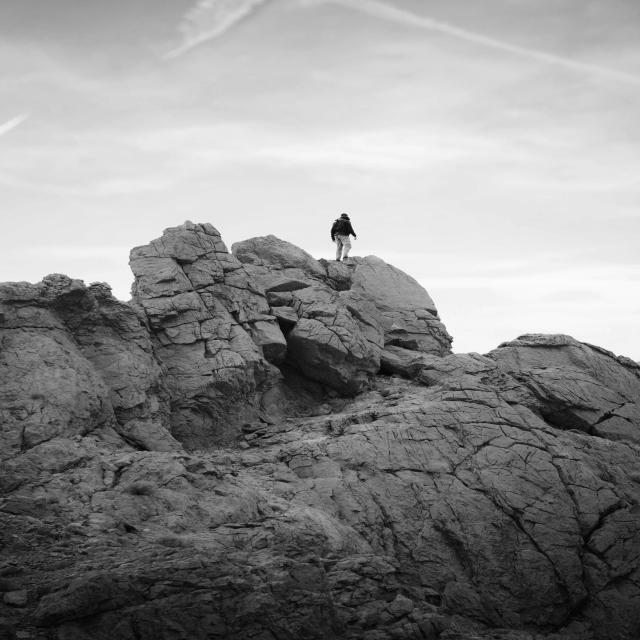stand: (321, 206, 366, 260)
